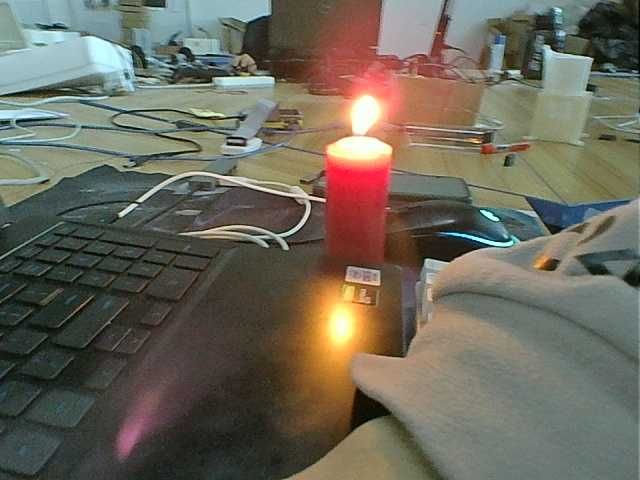candle: (321, 143, 403, 264)
fire: (326, 85, 401, 156)
